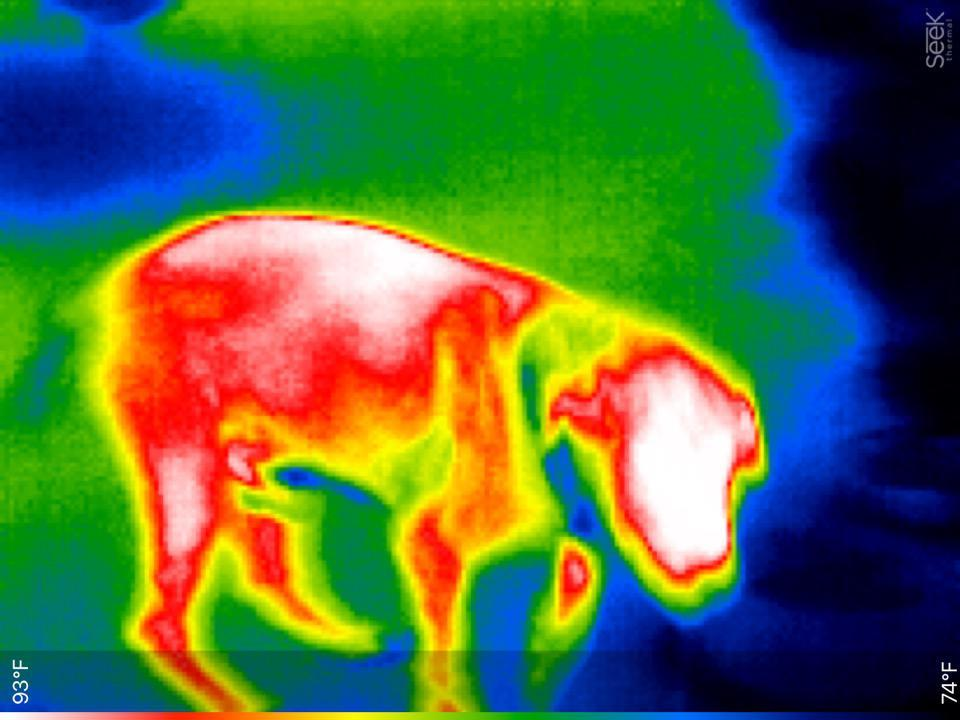dog: (75, 204, 777, 711)
